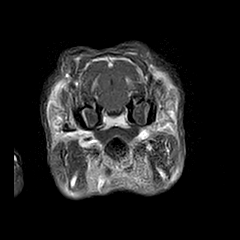Brain: (63, 33, 162, 131)
